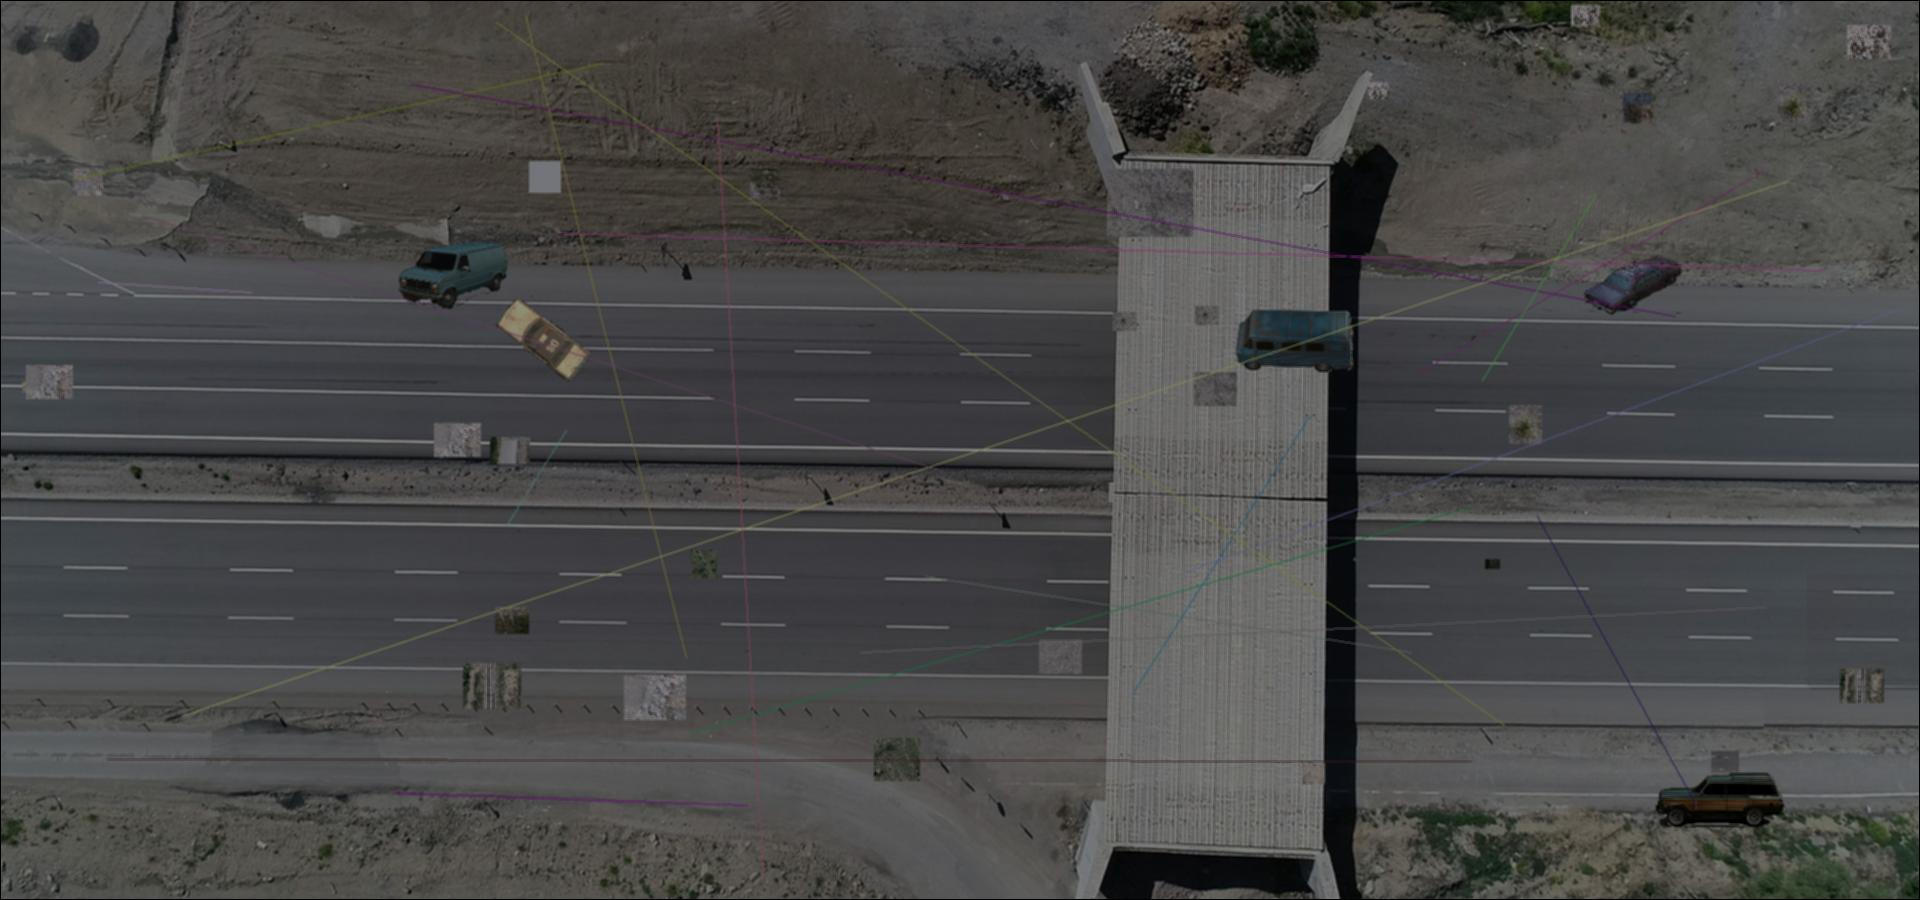arac: (495, 296, 591, 383), (1651, 771, 1787, 831), (398, 238, 507, 310), (1236, 310, 1353, 373), (1582, 255, 1684, 317)
